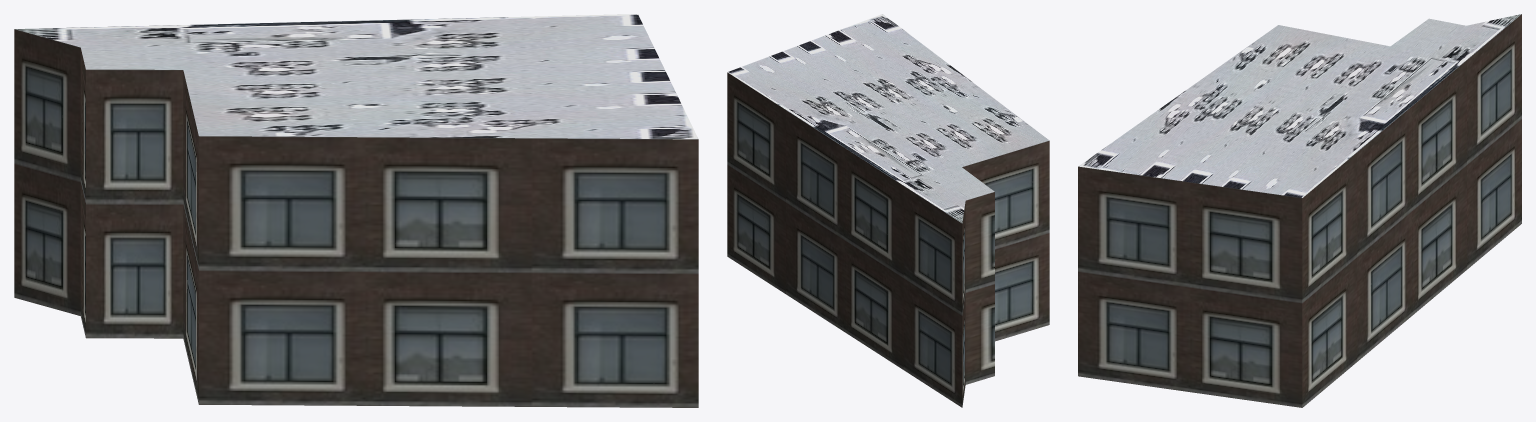
File: ResTex__2263.fbx
3 views of the same model, side by side, from view 1: azimuth 30°, elevation 25°; view 2: azimuth 150°, elevation 25°; view 3: azimuth 270°, elevation 25° (orthographic). The views are drawn at different scales.
Parts seen in each view (by area): view 1: CityEngineMaterial_16_m, CityEngineMaterial_15_m; view 2: CityEngineMaterial_16_m, CityEngineMaterial_15_m; view 3: CityEngineMaterial_16_m, CityEngineMaterial_15_m.
Part boxes in pixels (x1=…): CityEngineMaterial_16_m: x1=14, y1=29, x2=698, y2=407; CityEngineMaterial_15_m: x1=15, y1=14, x2=698, y2=139; CityEngineMaterial_16_m: x1=727, y1=72, x2=1049, y2=407; CityEngineMaterial_15_m: x1=727, y1=14, x2=1049, y2=223; CityEngineMaterial_16_m: x1=1078, y1=14, x2=1521, y2=407; CityEngineMaterial_15_m: x1=1078, y1=14, x2=1521, y2=197.
Bounding box in the file's own units: 11.29 × 6 × 11.5.
2 materials, 2 textured.
